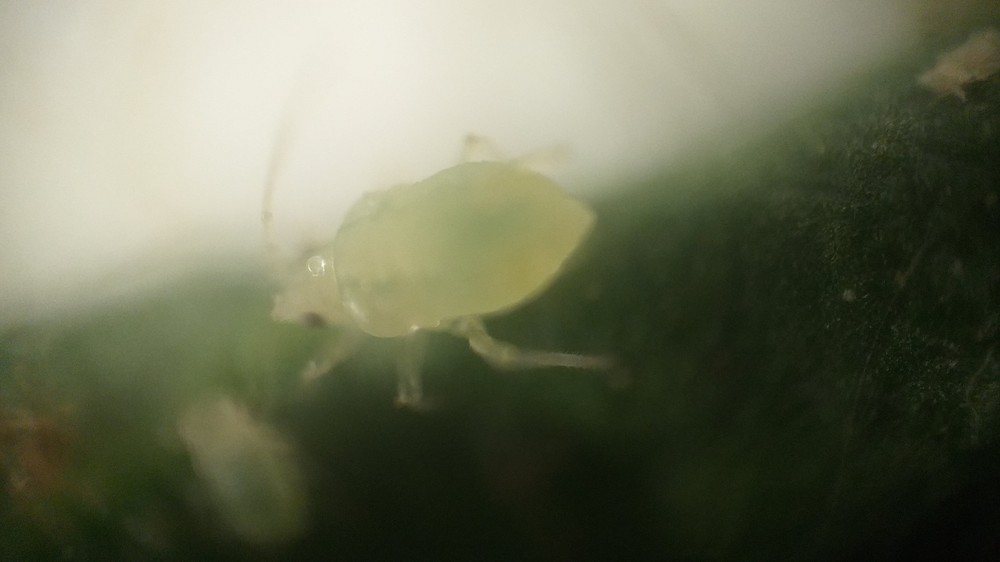Pulgon: (207, 86, 686, 433)
